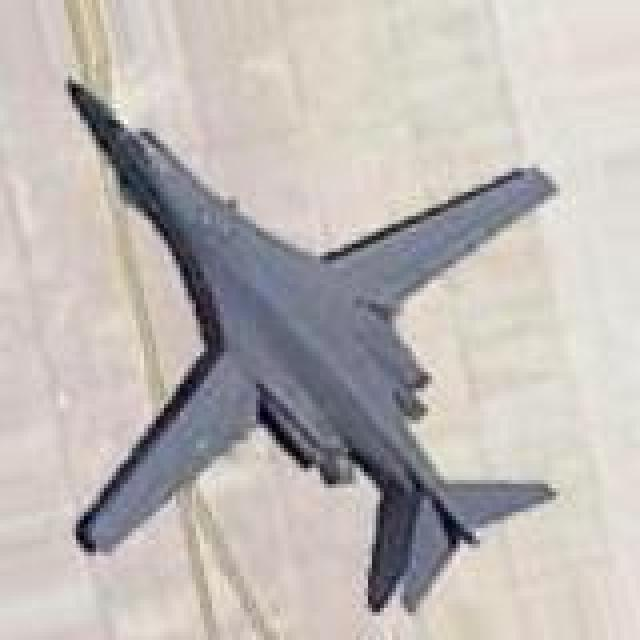B-1_TopDown: (60, 68, 560, 616)
